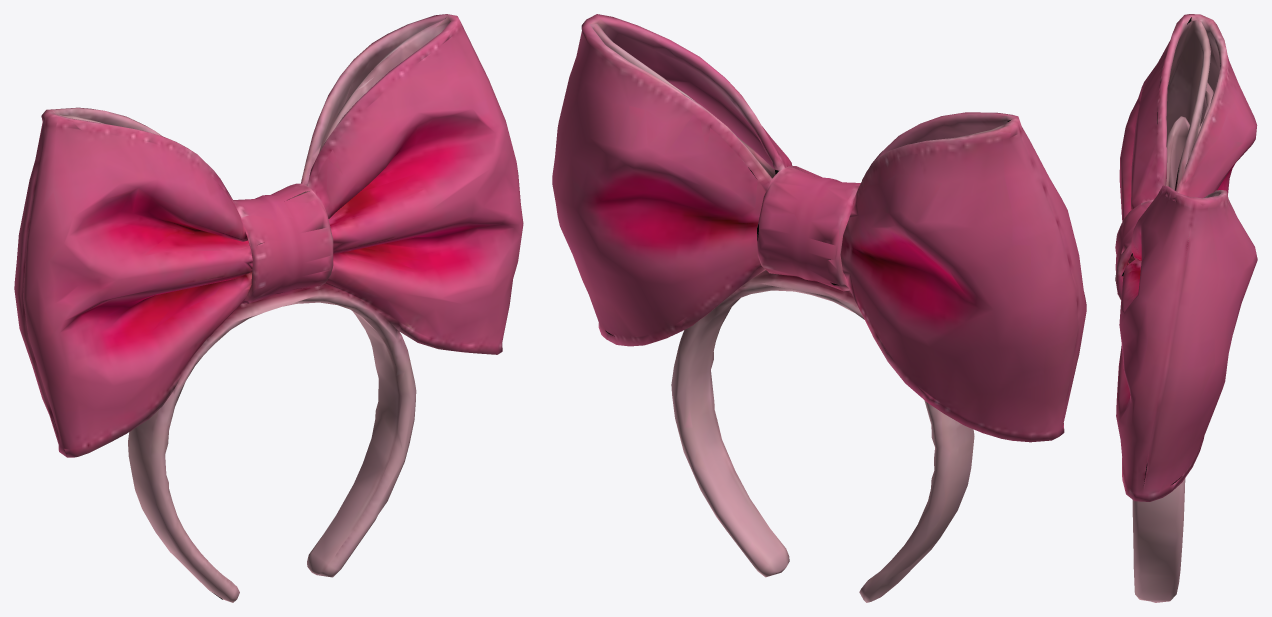
The model's file is bow.glb.
3 views of the same model, side by side, from view 1: azimuth 30°, elevation 25°; view 2: azimuth 150°, elevation 25°; view 3: azimuth 270°, elevation 25° (orthographic). The views are drawn at different scales.
Visible parts, largest first — view 1: node_0; view 2: node_0; view 3: node_0.
Part boxes in pixels (x1,y1,x2,y2): node_0: (14, 14, 523, 602); node_0: (552, 14, 1086, 602); node_0: (1115, 14, 1257, 602).
Bounding box in the file's own units: 0.46 × 0.4517 × 0.1232.
Materials: 1 (1 with a texture image).
